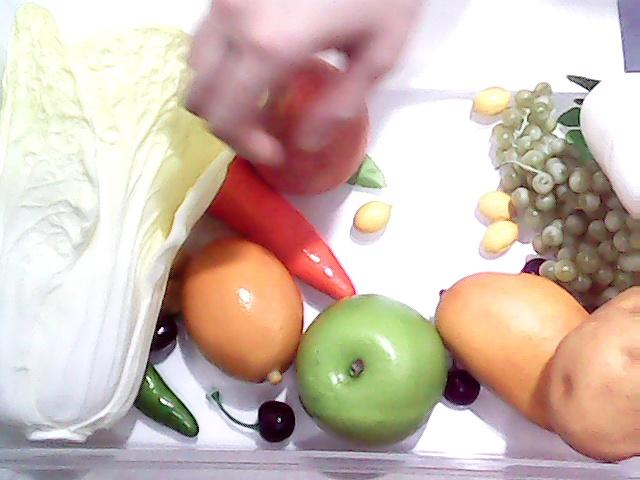apple: (290, 293, 450, 443)
carrot: (205, 152, 355, 300)
grape: (477, 108, 629, 276)
lemon: (181, 231, 323, 401)
mango: (432, 271, 590, 437)
napa cabbage: (0, 1, 264, 450)
peach: (231, 62, 401, 198)
pepper: (106, 325, 206, 447)
potato: (544, 284, 640, 464)
radish: (564, 71, 640, 220)
